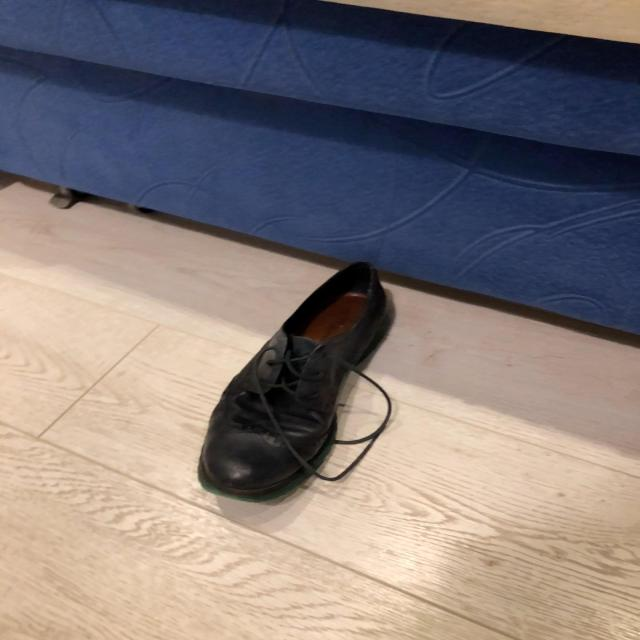shoe: (196, 263, 396, 506)
